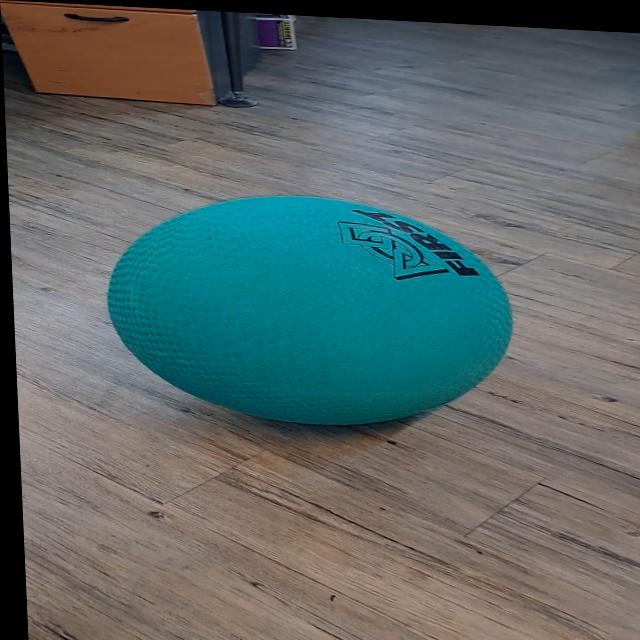ALGAE: (99, 184, 519, 437)
